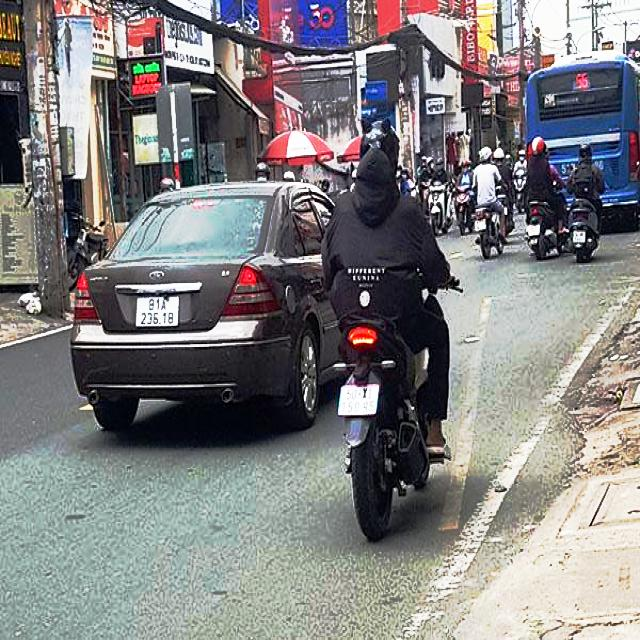license_plate: (138, 296, 181, 328), (340, 384, 379, 415)
